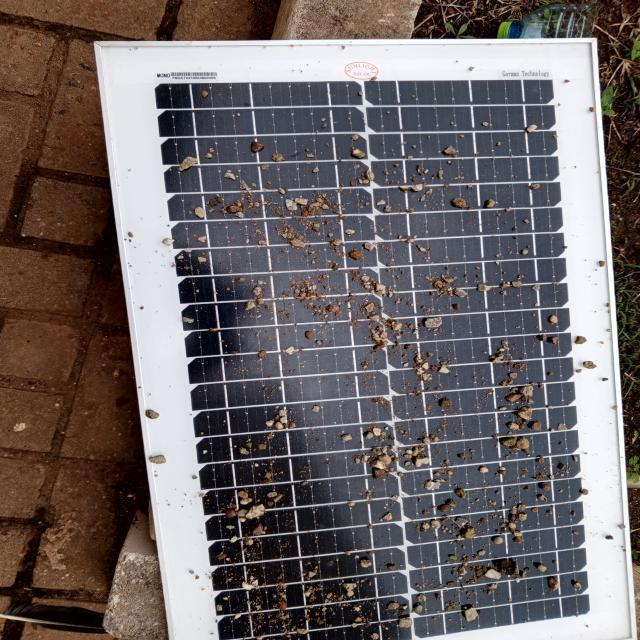Anomaly Solar Panel: (94, 40, 633, 640)
Surface Contaminant: (180, 73, 587, 639)
